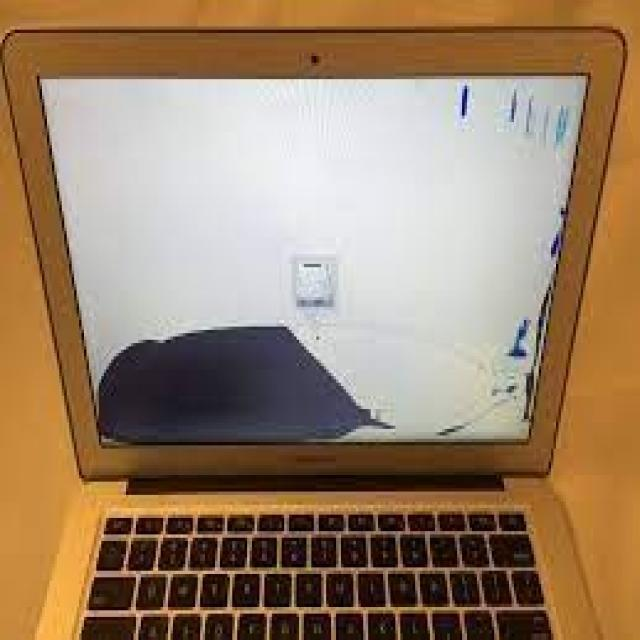Screen cracks: (82, 316, 546, 448)
